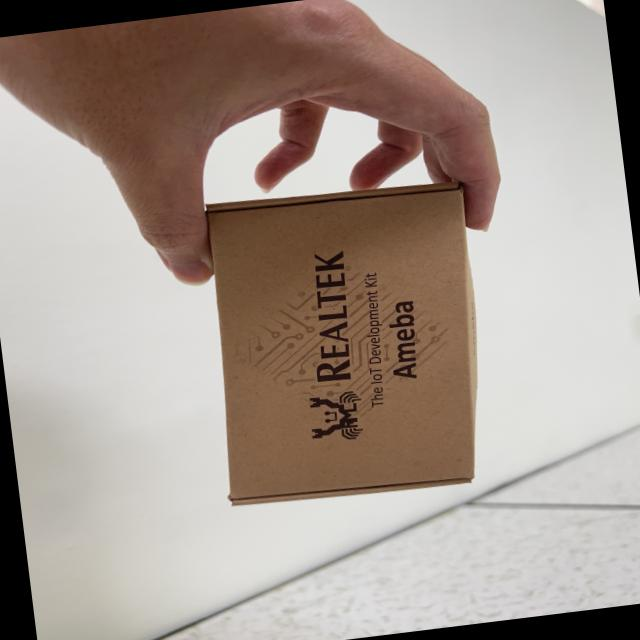box: (173, 159, 539, 531)
